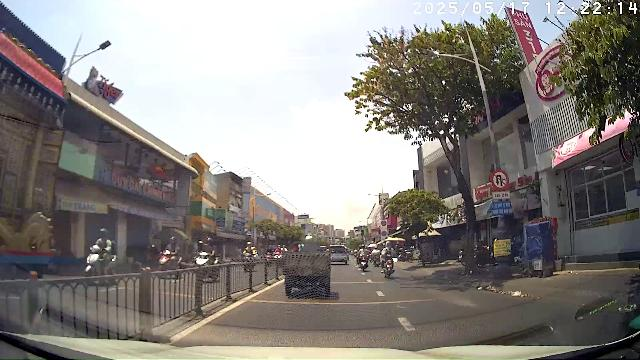124b-cam-oto-quay-dau-xe: (490, 169, 509, 190)
